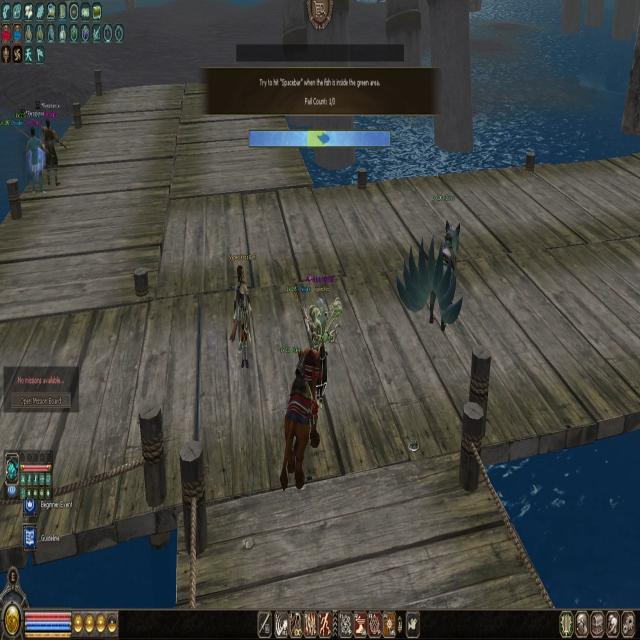box: (308, 129, 328, 149)
fishes: (317, 131, 331, 145)
